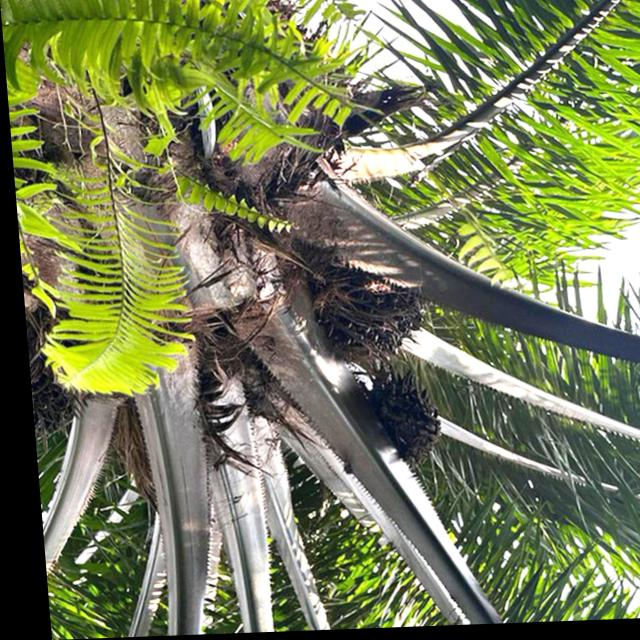ripe: (290, 262, 431, 384)
